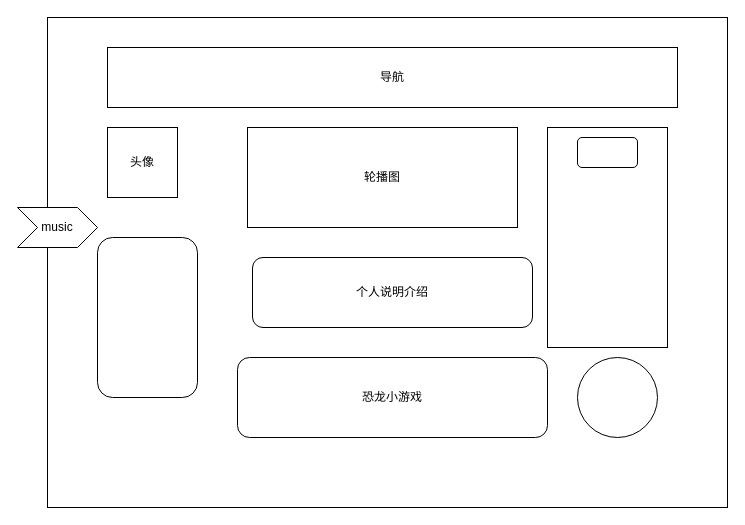
This 745x525 diagram has some shape labels left out. The centre of each missing label's shape, as x and y in pixels:
个人履历: point 147,317
留言板·: point 607,152
网页特效 例如闪星星: point 617,397
